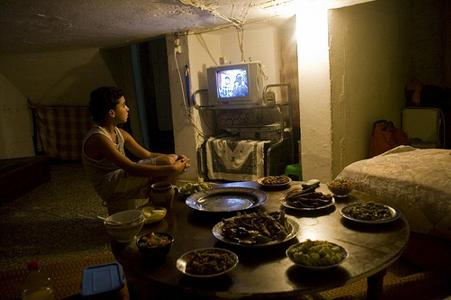person: (82, 89, 186, 202)
